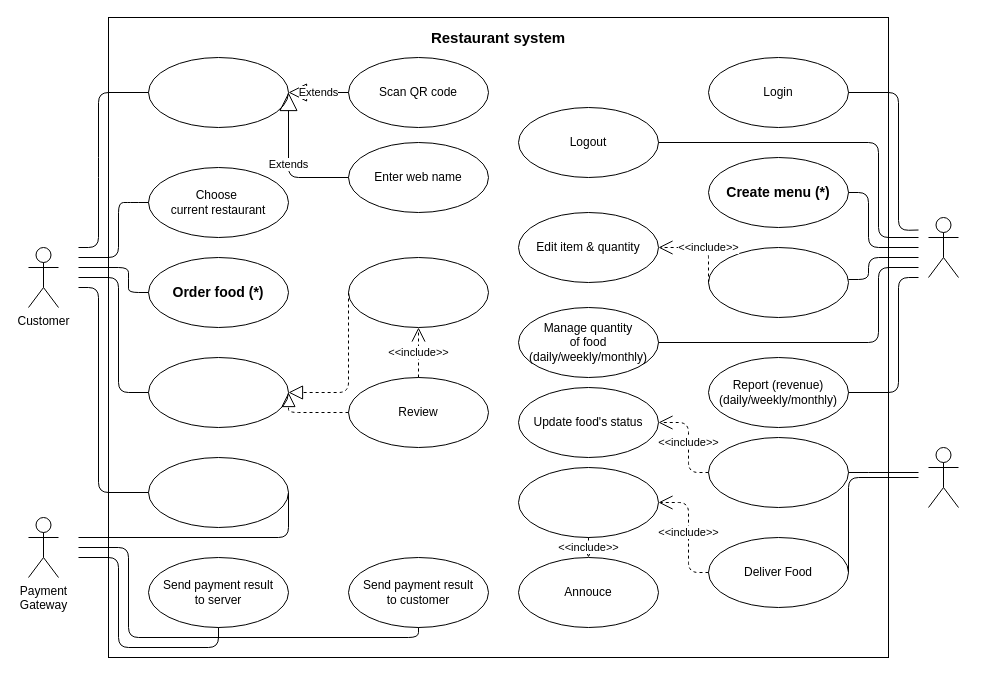
This 984x675 diagram has some shape labels left out. The centre of each missing label's shape, as x and y in pixels:
Access Web page: point 218,92
Chef: point 943,477
Manage storage: point 778,282
Manager: point 943,247
Name the order's slot: point 588,502
Payment (*): point 218,492
Process Food Order: point 778,472
Rate: point 418,292
Rate & review: point 218,392
